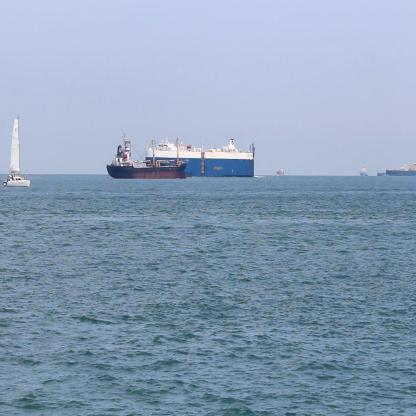Container Ship: (144, 135, 257, 181), (104, 128, 191, 182), (383, 160, 416, 178), (359, 163, 370, 179), (276, 164, 286, 178)
